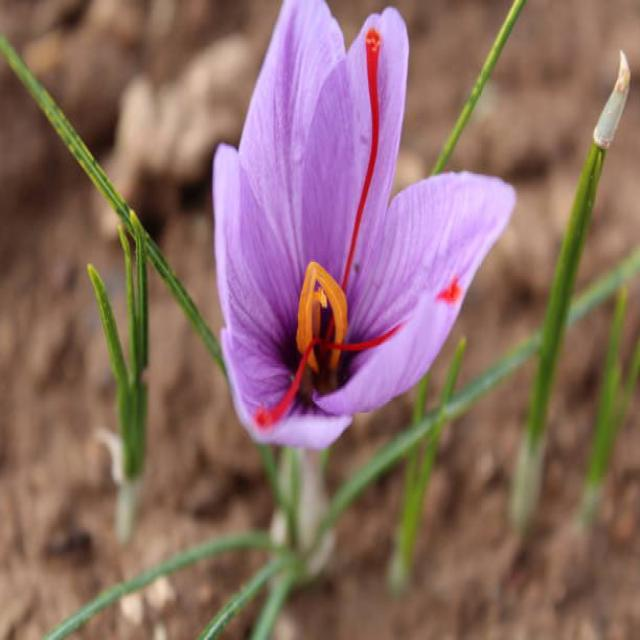saffron open: (215, 4, 515, 448)
